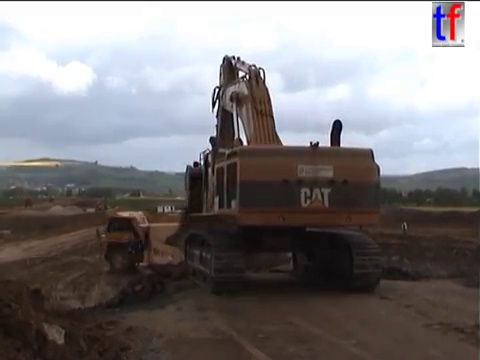excavator: (176, 52, 389, 294), (88, 194, 112, 215)
truck: (122, 218, 296, 295), (94, 209, 257, 275), (22, 196, 36, 210), (47, 196, 57, 205)
worker: (398, 216, 411, 238)
